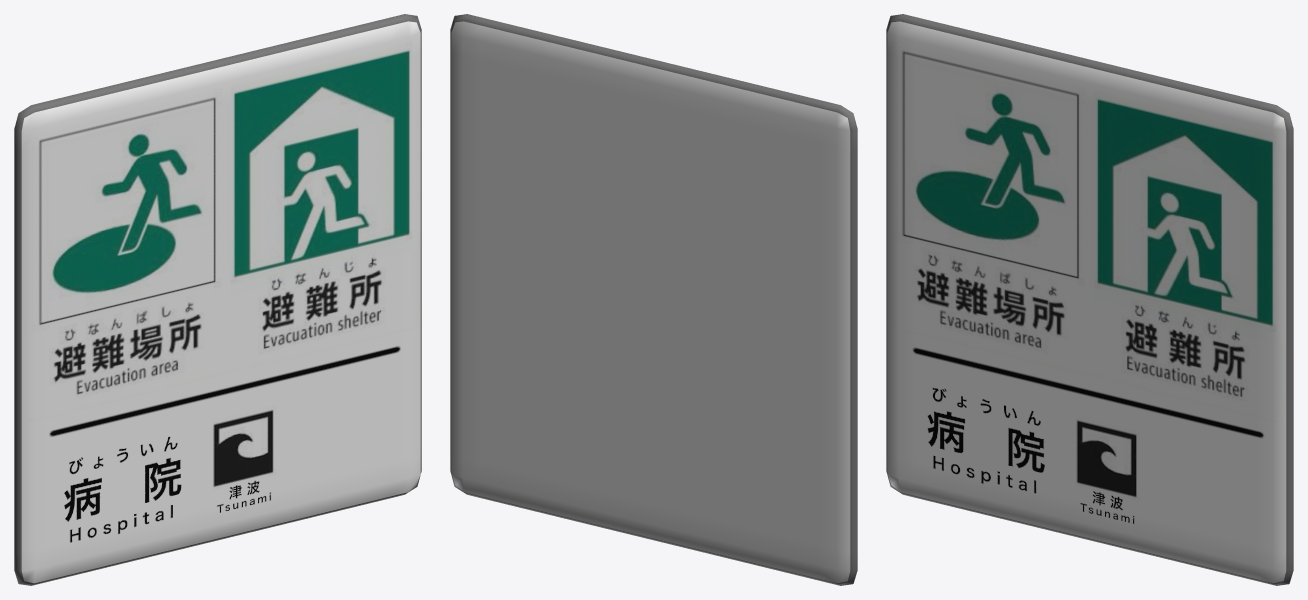
File: Hospital-s.fbx
3 views of the same model, side by side, from view 1: azimuth 30°, elevation 25°; view 2: azimuth 150°, elevation 25°; view 3: azimuth 330°, elevation 25° (orthographic).
Parts seen in each view (by area): view 1: Hospital_1; view 2: Hospital_1; view 3: Hospital_1.
Boxes of the visible parts, x1=… form: Hospital_1: x1=14, y1=14, x2=421, y2=585; Hospital_1: x1=450, y1=14, x2=857, y2=585; Hospital_1: x1=886, y1=14, x2=1293, y2=585.
Bounding box in the file's own units: 0.6657 × 0.7506 × 0.0246.
Materials: 3 (1 with a texture image).
